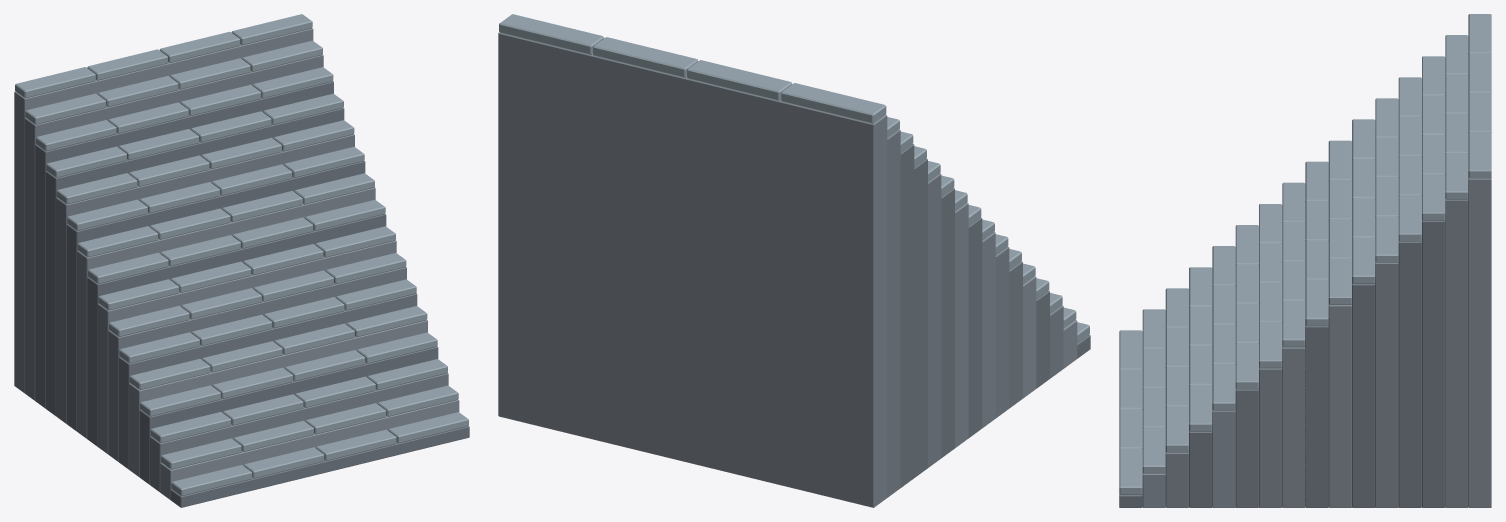
File: MOD_13_Stairs_Straight.glb
The picture shows the model from 3 angles, left to right: view 1: azimuth 30°, elevation 25°; view 2: azimuth 150°, elevation 25°; view 3: azimuth 270°, elevation 25°; orthographic projection. The views are drawn at different scales.
Parts seen in each view (by area): view 1: MOD_13_Stairs_Straight; view 2: MOD_13_Stairs_Straight; view 3: MOD_13_Stairs_Straight.
Boxes of the visible parts, bbox=[...] form: MOD_13_Stairs_Straight: bbox=[14, 14, 469, 507]; MOD_13_Stairs_Straight: bbox=[498, 14, 1090, 507]; MOD_13_Stairs_Straight: bbox=[1119, 14, 1491, 507].
Size of the model in its own units: 4 by 4 by 4.
